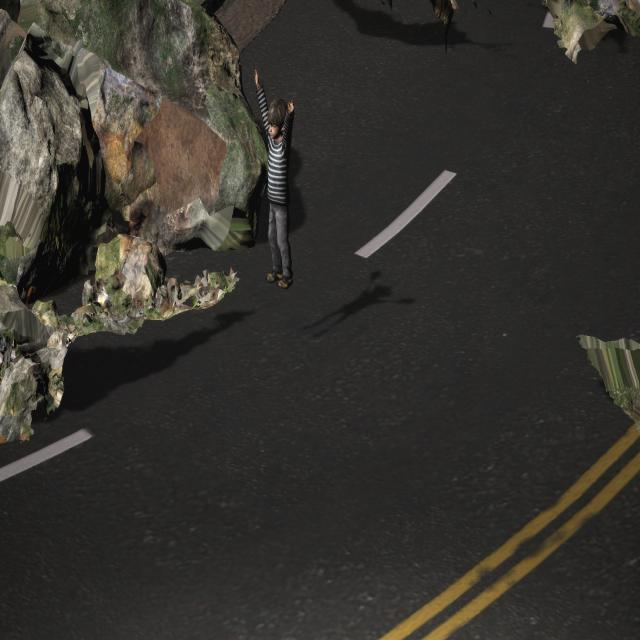Human: (248, 64, 300, 292)
